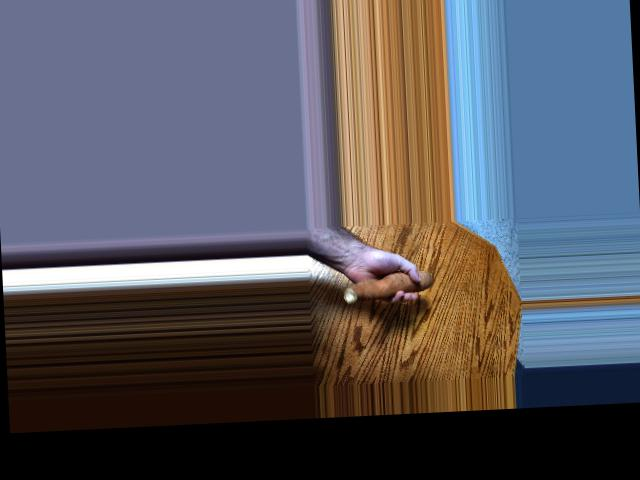sweet_potato: (339, 265, 441, 301)
